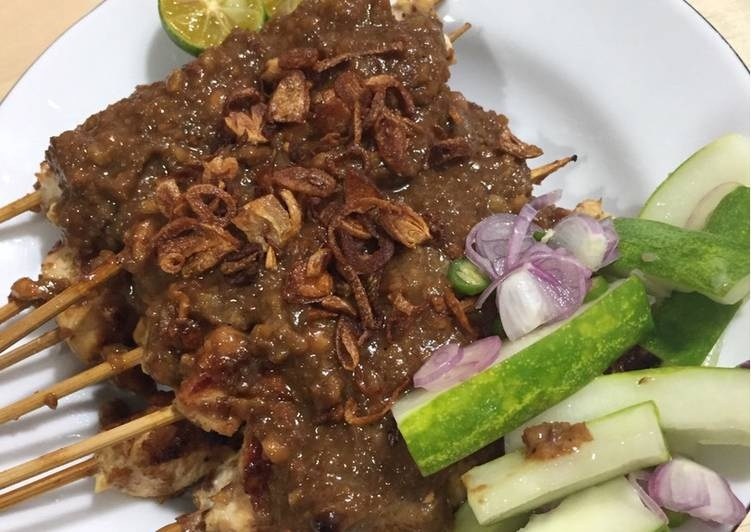sate_madura: (25, 16, 540, 532)
